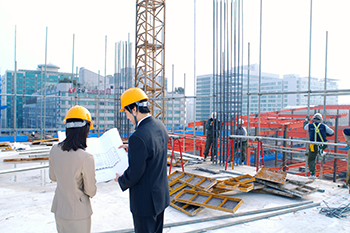epi: (115, 86, 172, 233), (49, 104, 97, 233), (304, 112, 335, 178), (232, 117, 253, 166), (203, 111, 221, 162)
